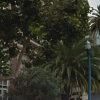Palm tree: (38, 22, 87, 100)
